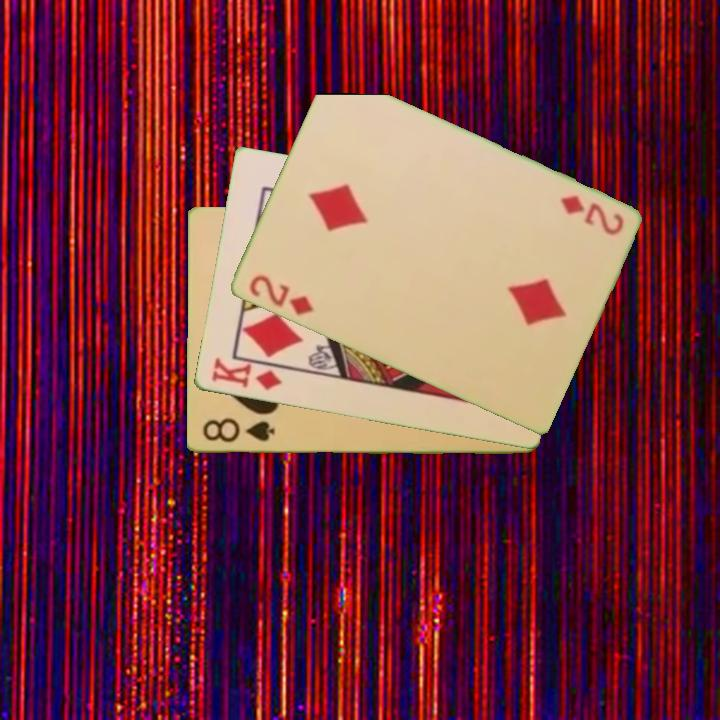2d: (245, 271, 317, 319), (556, 191, 627, 239)
8s: (199, 416, 277, 446)
Kd: (207, 355, 285, 393)
